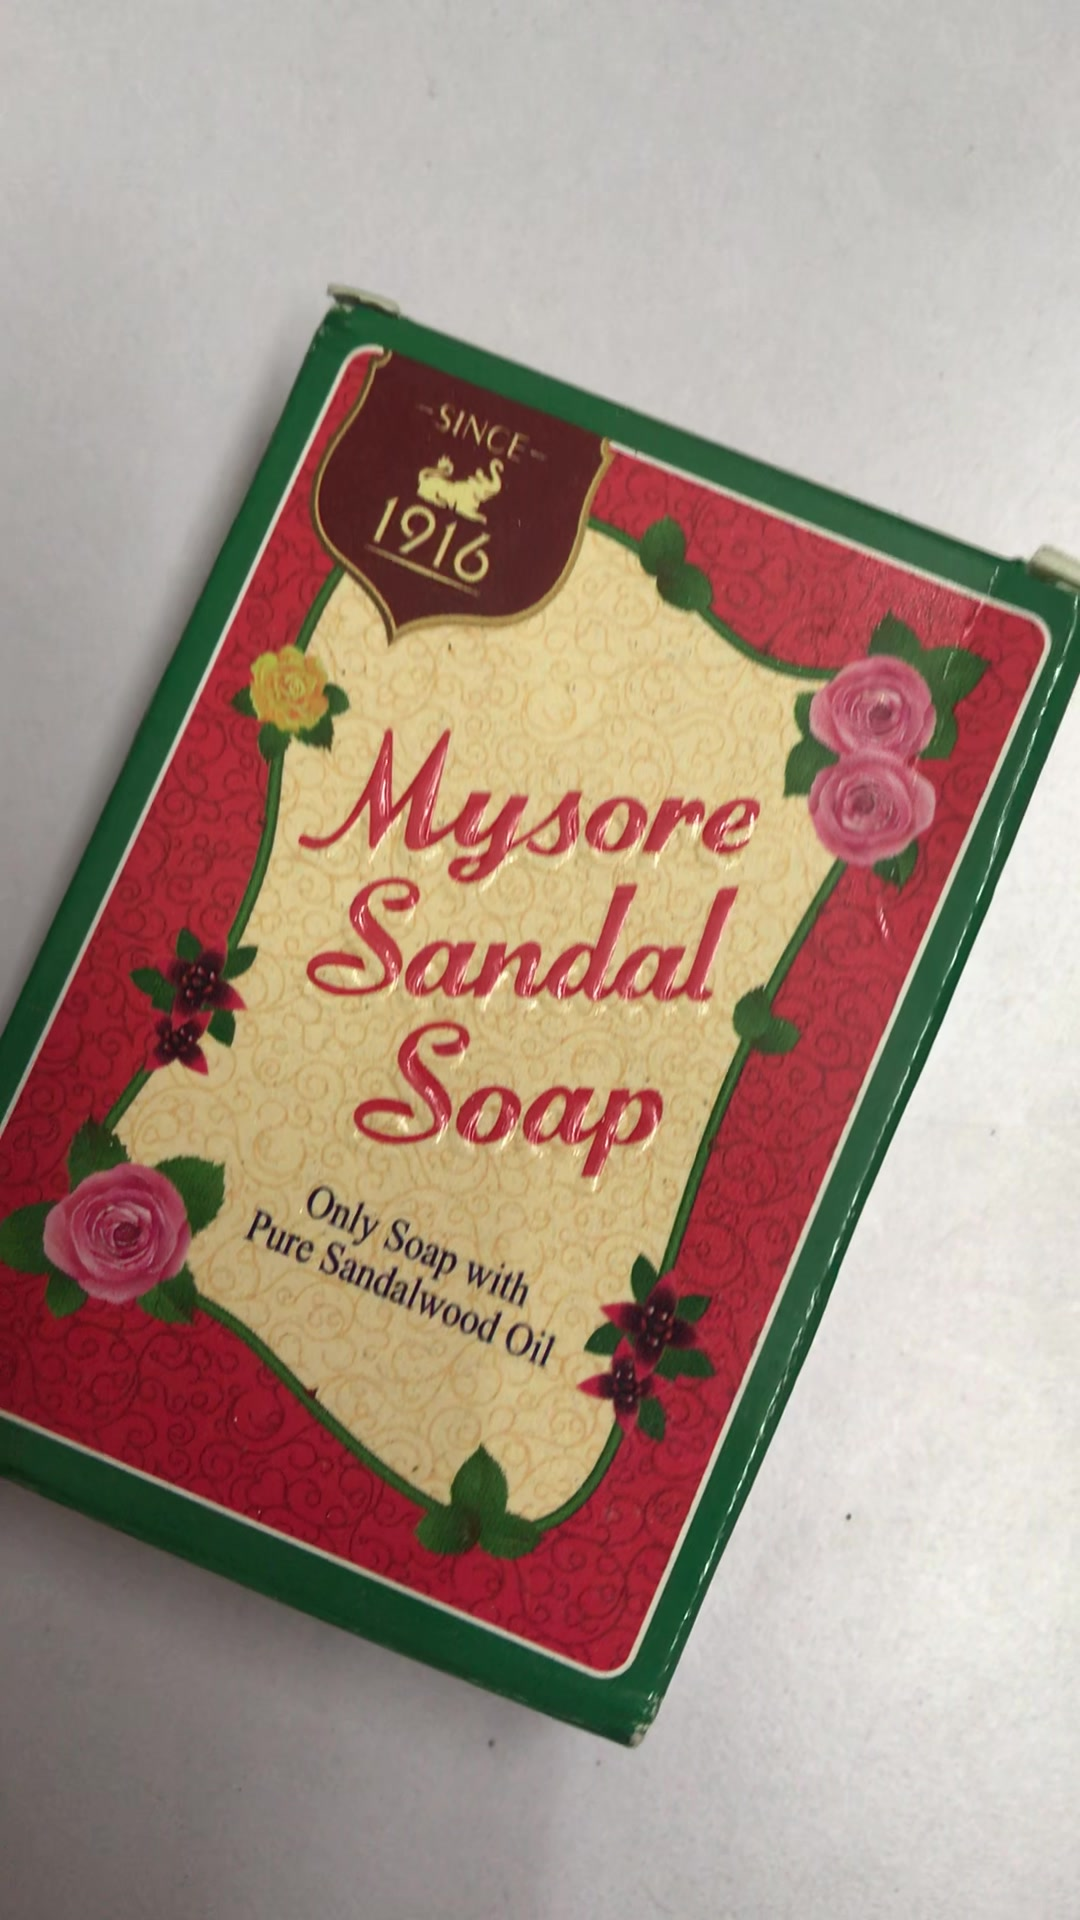mysore sandal soap: (3, 276, 1080, 1753)
